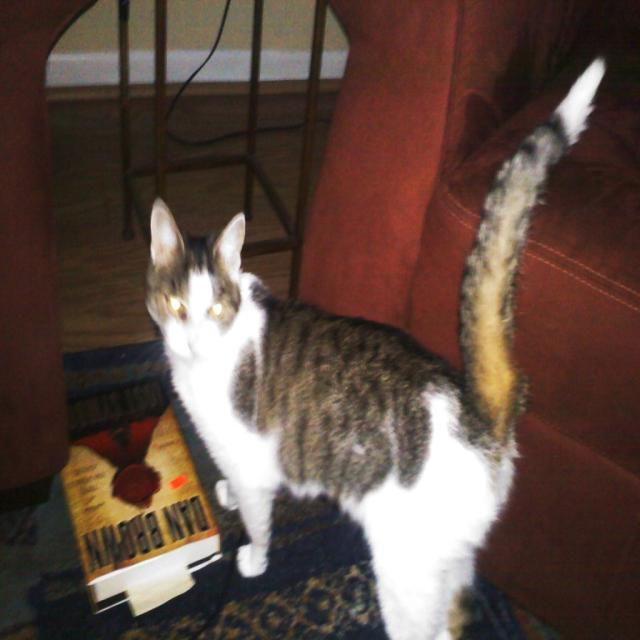Cat: (143, 48, 605, 640)
